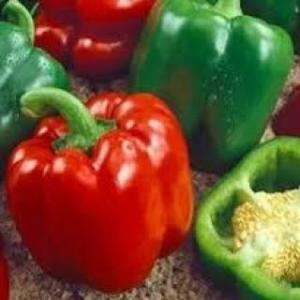bell_pepper: (12, 90, 196, 292), (138, 2, 294, 176)
